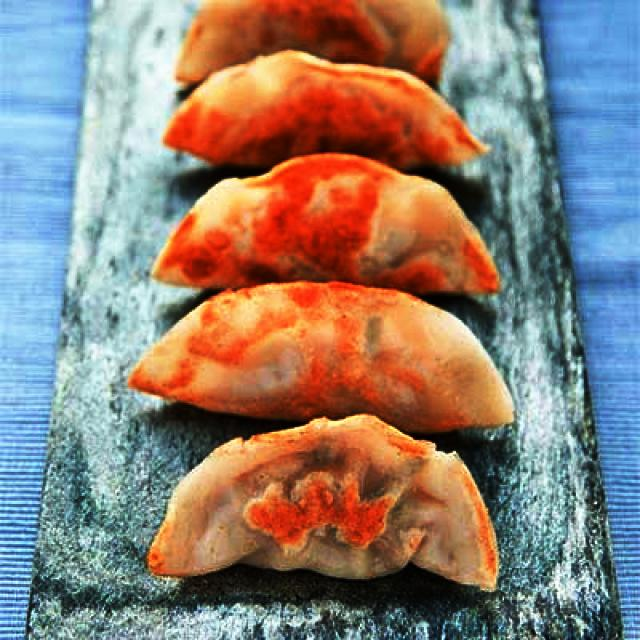fried_dumplings: (145, 414, 498, 604), (131, 279, 517, 431), (154, 151, 501, 296), (164, 49, 489, 176), (173, 0, 452, 86)
